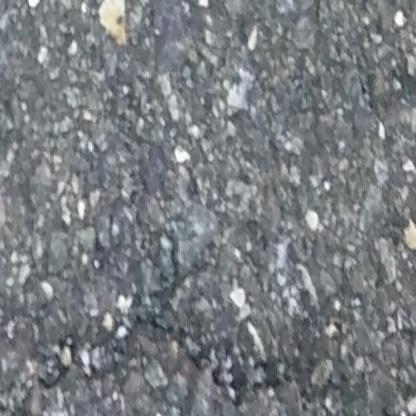Cracks: (0, 305, 384, 416)
